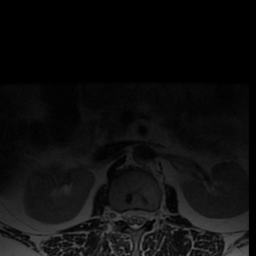CCS_normal: (131, 200, 140, 238)
LFS_normal: (149, 202, 158, 229)
LLS_normal: (140, 200, 149, 231)
RFS_normal: (114, 202, 122, 229)
RLS_normal: (122, 202, 131, 230)
